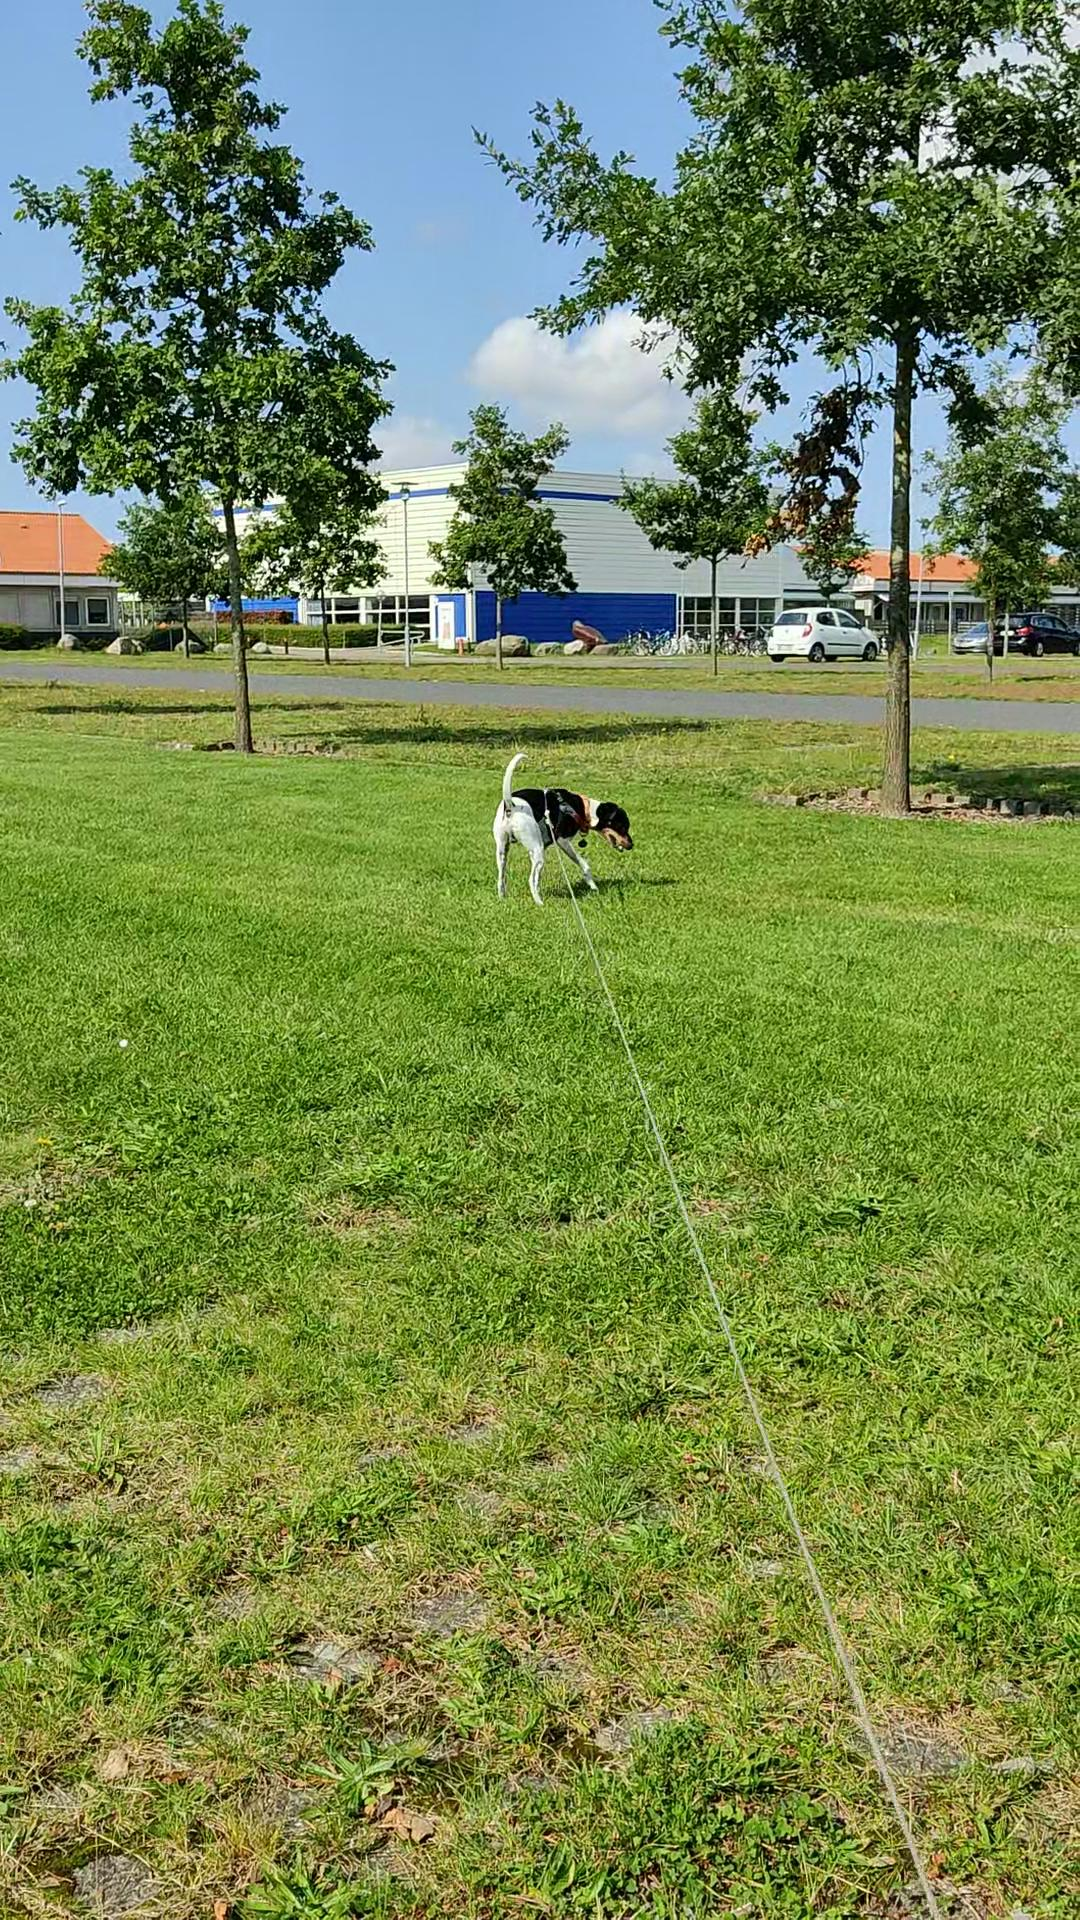Dog: (487, 748, 636, 907)
